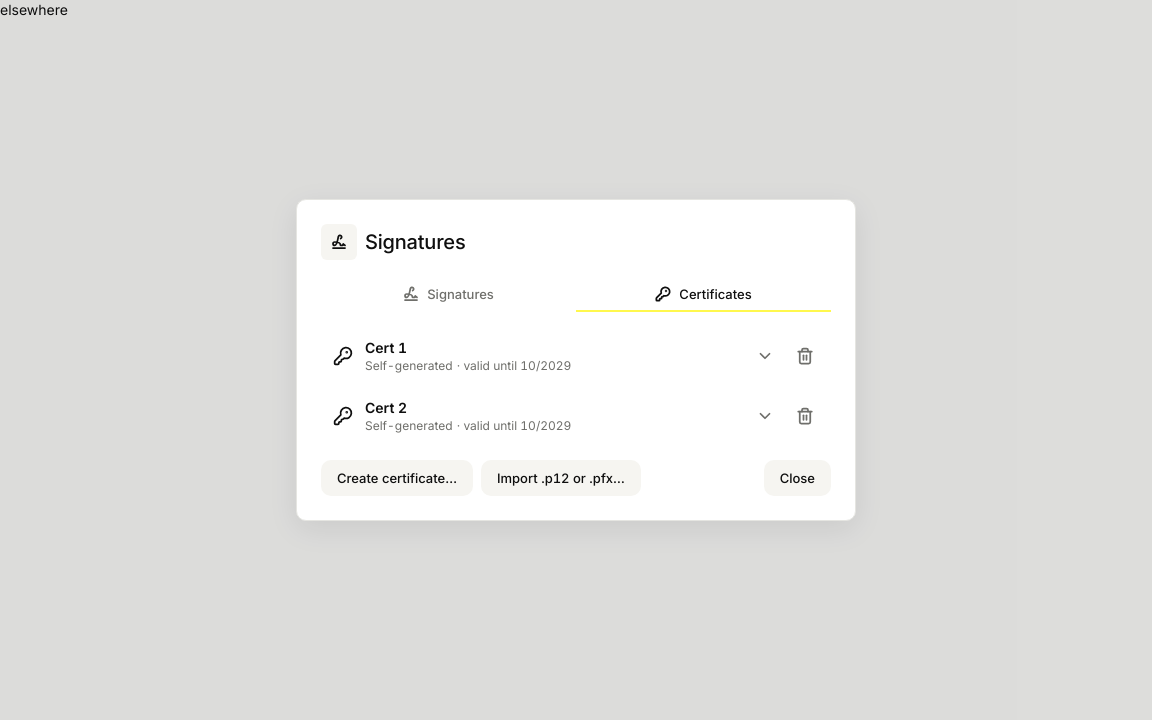
certificate manager › deletes after an inline confirm, with no undo, and focuses the next row
Click the button named "Delete certificate" in the row of "Cert 1" at (805, 356), box x1=791 y1=342 x2=819 y2=370
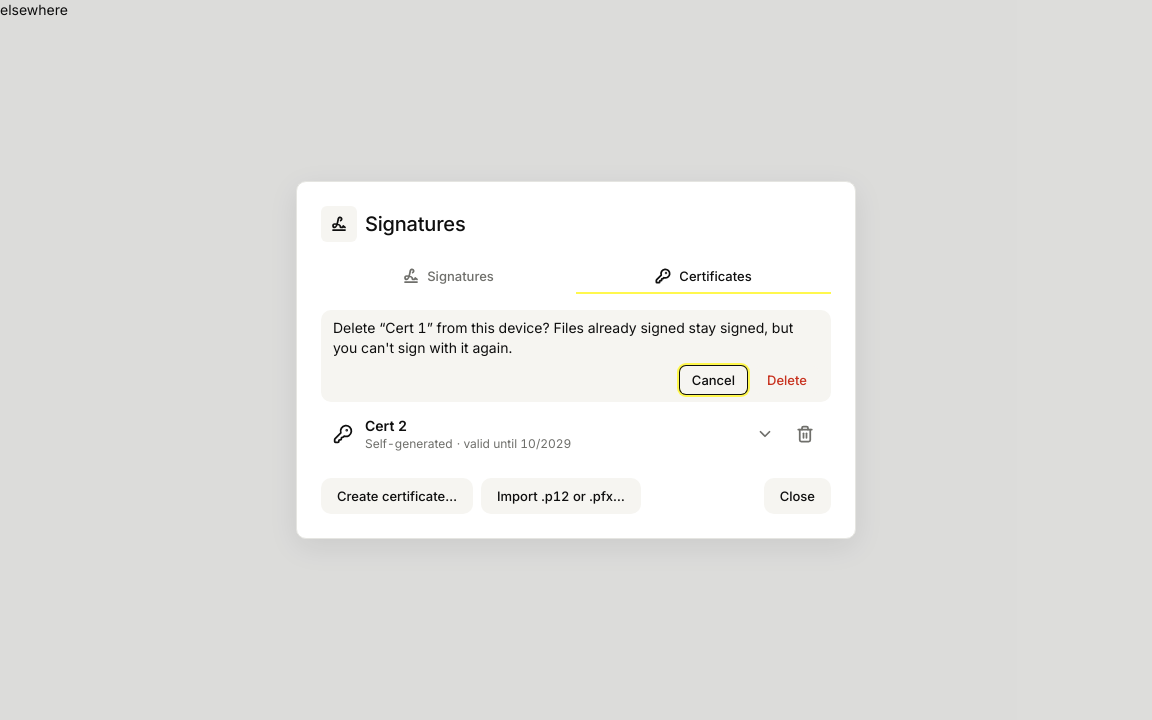
Now the message shows "Delete “Cert 1” from this device?", box x1=333 y1=319 x2=793 y2=356
Click the button "Delete" at (787, 380), box x1=755 y1=366 x2=819 y2=394
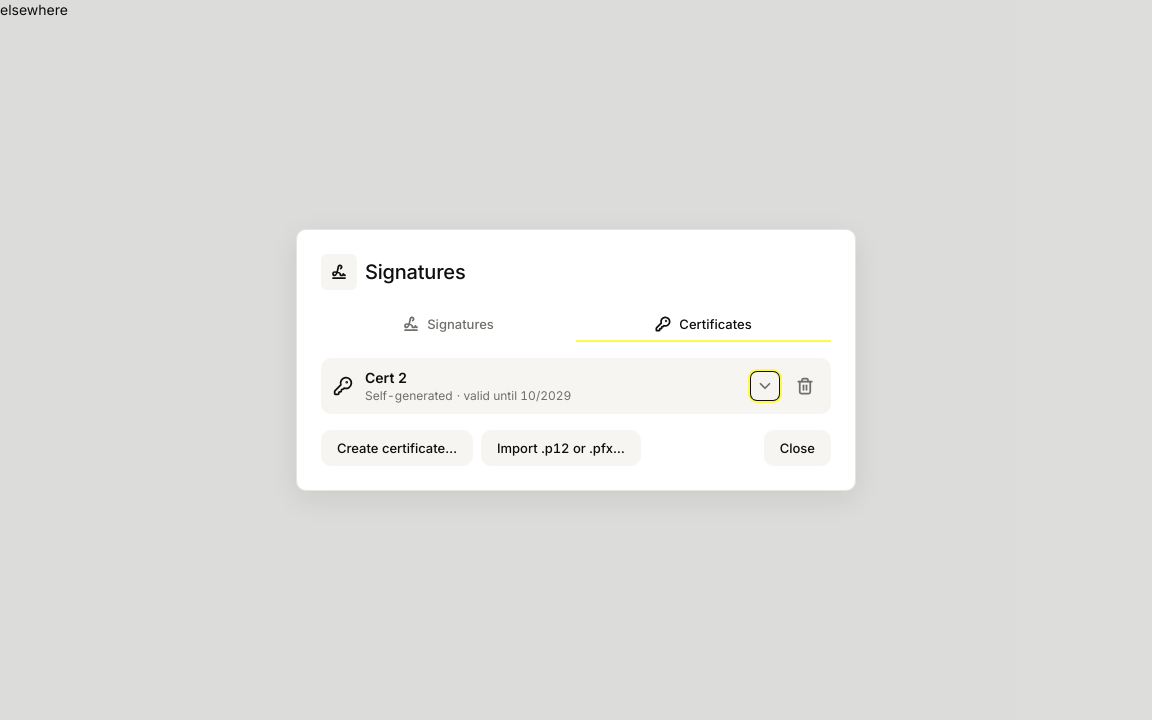
Now the text "Cert 1" is gone
